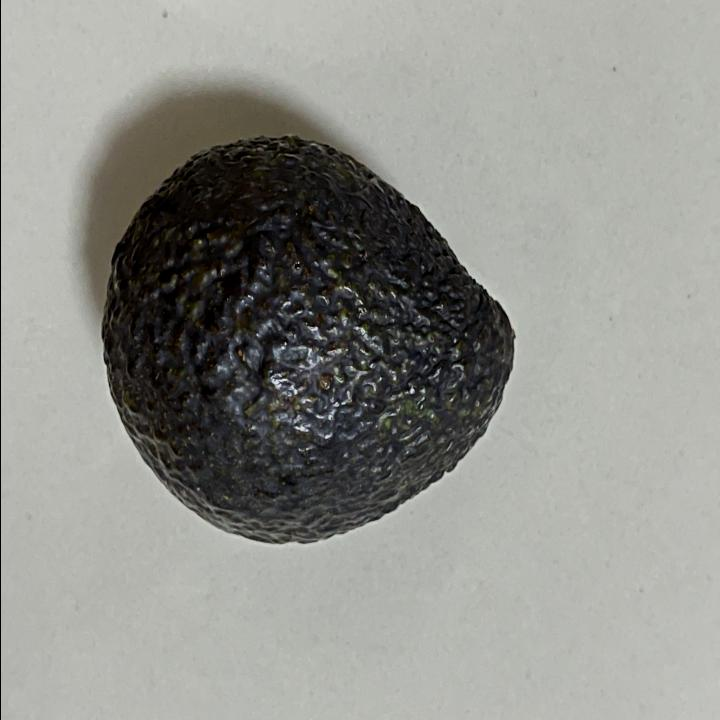Level2: (93, 127, 523, 554)
